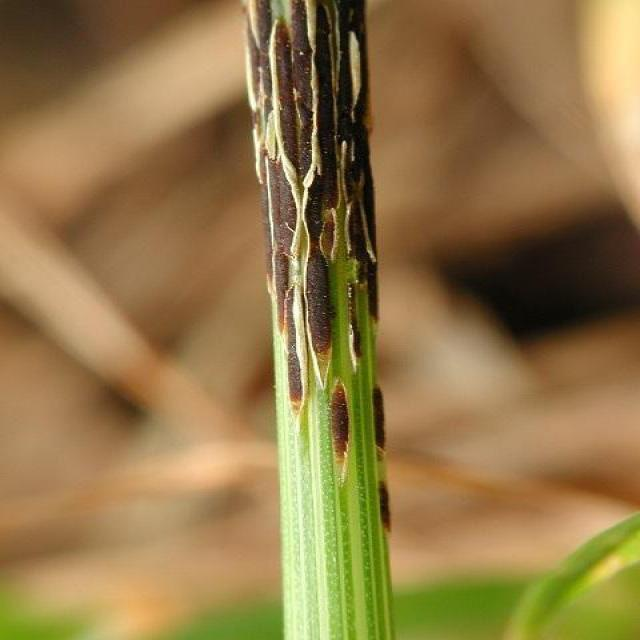wheat-stemrust: (241, 0, 399, 640)
